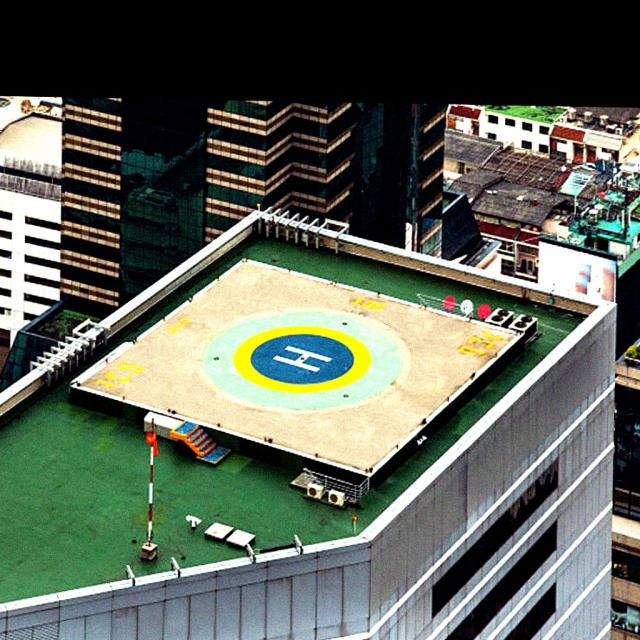helipad: (230, 320, 370, 397)
